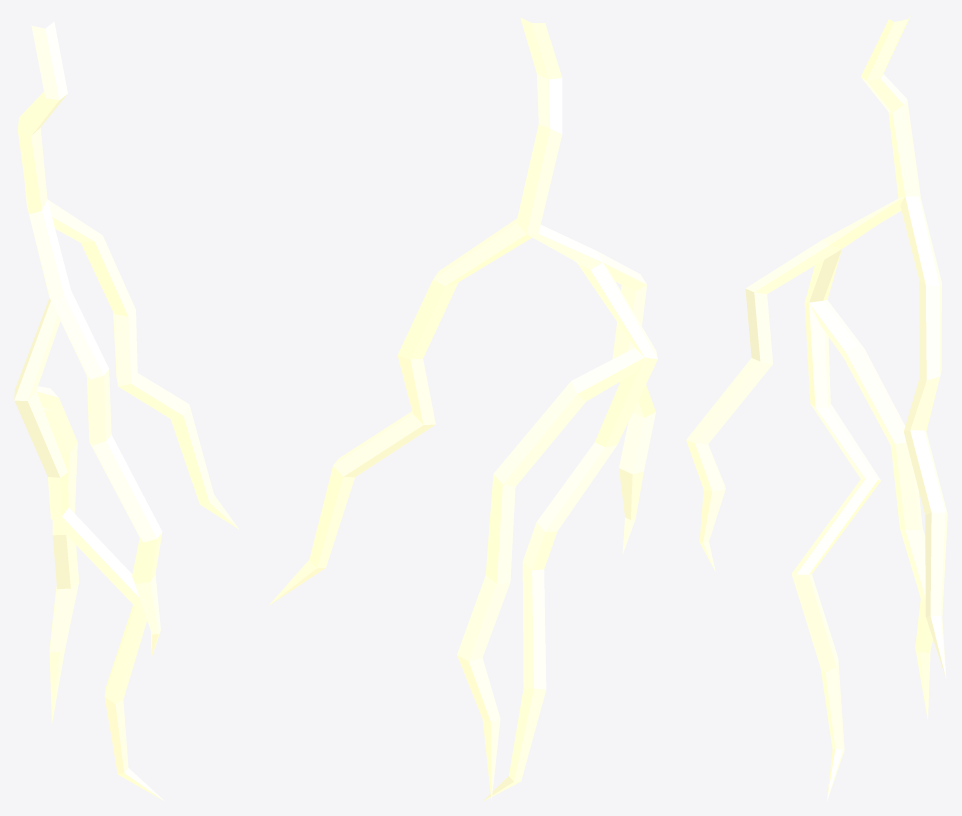
The picture shows the model from 3 angles, left to right: view 1: azimuth 30°, elevation 25°; view 2: azimuth 150°, elevation 25°; view 3: azimuth 270°, elevation 25°; orthographic projection. The views are drawn at different scales.
Parts seen in each view (by area): view 1: lightning_bolt.002, lightning_bolt.003, lightning_bolt.005, lightning_bolt.004; view 2: lightning_bolt.002, lightning_bolt.004, lightning_bolt.005, lightning_bolt.003; view 3: lightning_bolt.002, lightning_bolt.005, lightning_bolt.004, lightning_bolt.003.
Part boxes in pixels (<box>): lightning_bolt.002: <box>18,22,238,529</box>; lightning_bolt.003: <box>29,199,162,657</box>; lightning_bolt.005: <box>14,391,165,801</box>; lightning_bolt.004: <box>14,298,78,723</box>; lightning_bolt.002: <box>268,17,562,605</box>; lightning_bolt.004: <box>457,262,657,800</box>; lightning_bolt.005: <box>483,357,657,801</box>; lightning_bolt.003: <box>527,225,655,554</box>; lightning_bolt.002: <box>861,15,947,678</box>; lightning_bolt.005: <box>791,302,880,800</box>; lightning_bolt.004: <box>804,249,933,720</box>; lightning_bolt.003: <box>686,196,904,571</box>.
Size of the model in its own units: 0.9434 by 2.39 by 0.7583.
